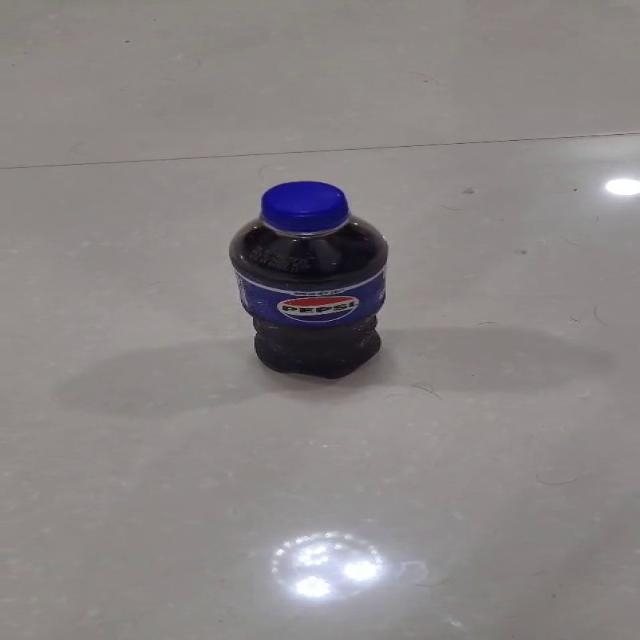plastic: (226, 180, 388, 379)
